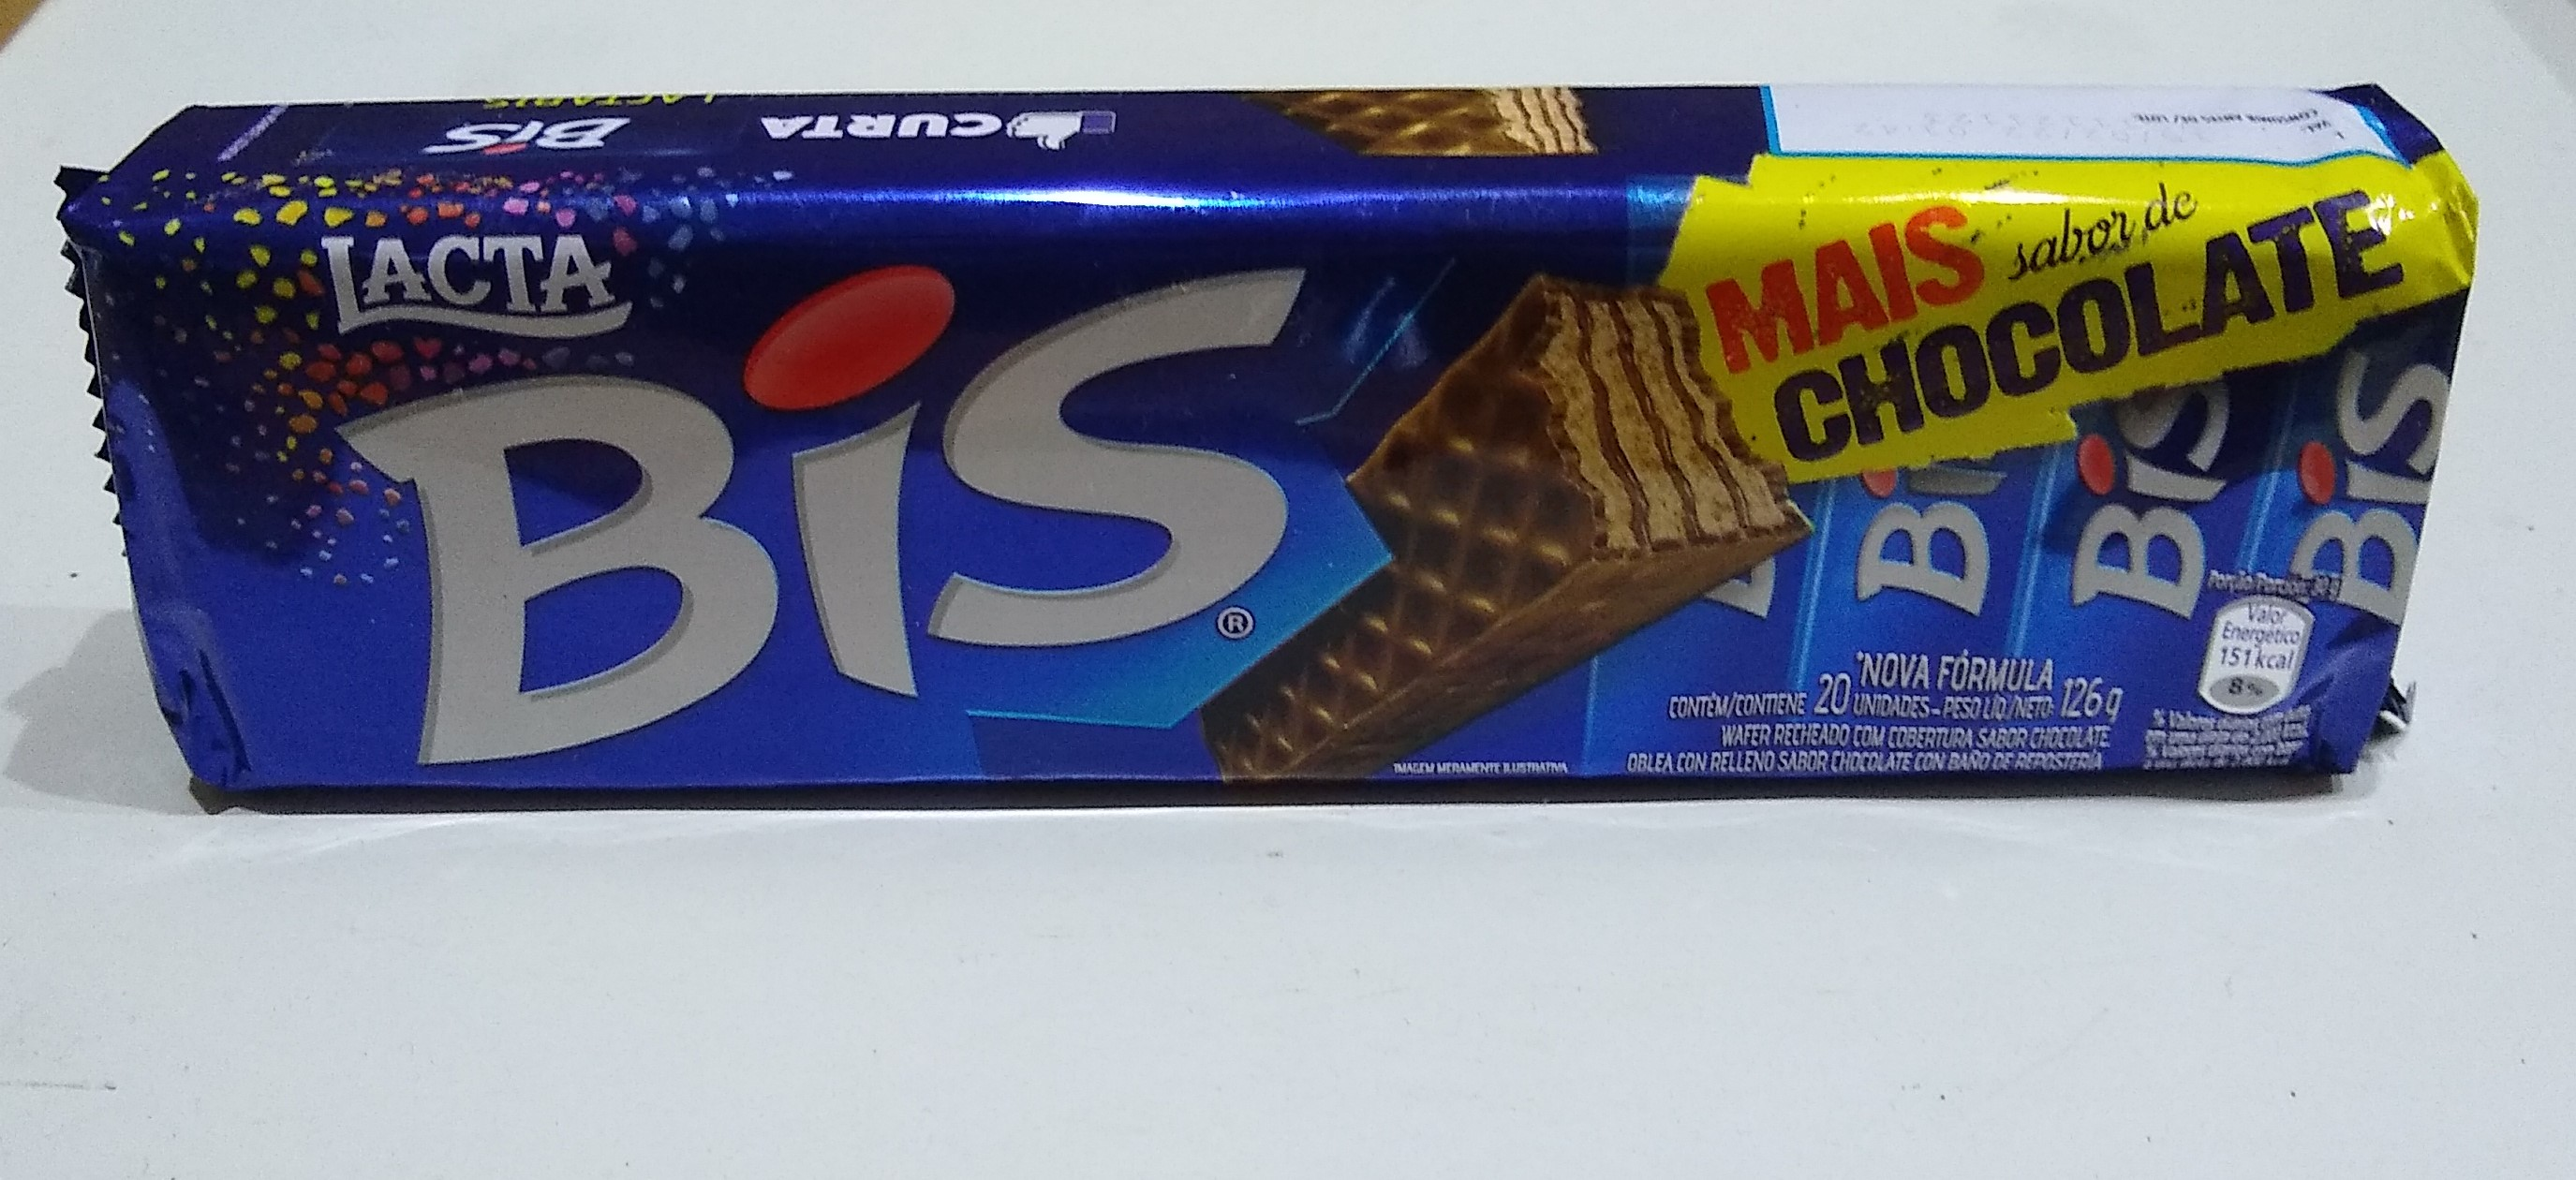Bis: (34, 64, 2494, 809)
